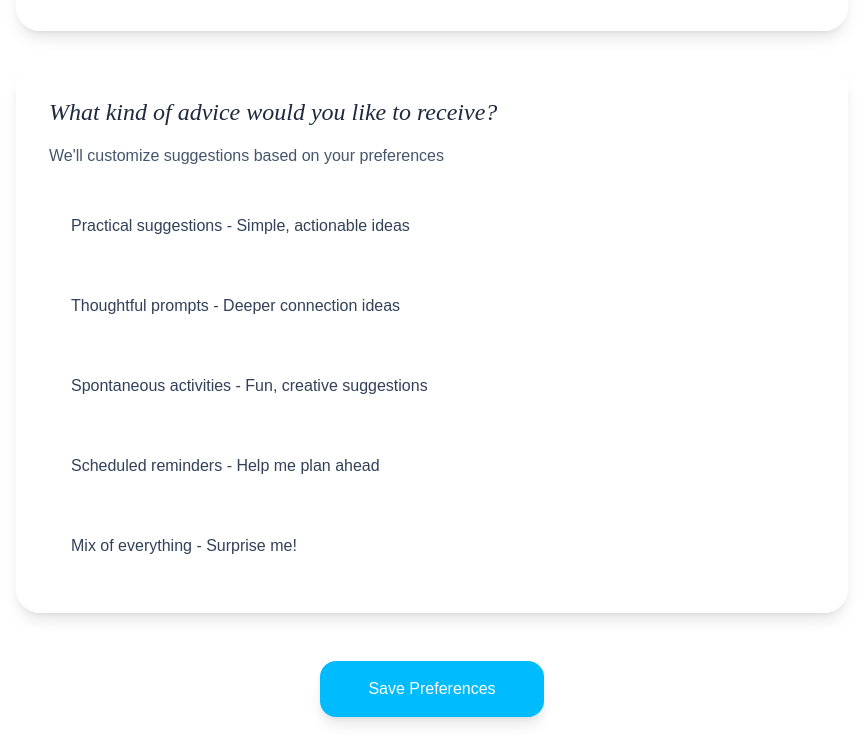
Test case: SettingsPage › should display error message on save failure
(page scrolled)
Click the button "Save Preferences". click: (432, 689)
box: top-left (320, 661), bottom-right (544, 717)
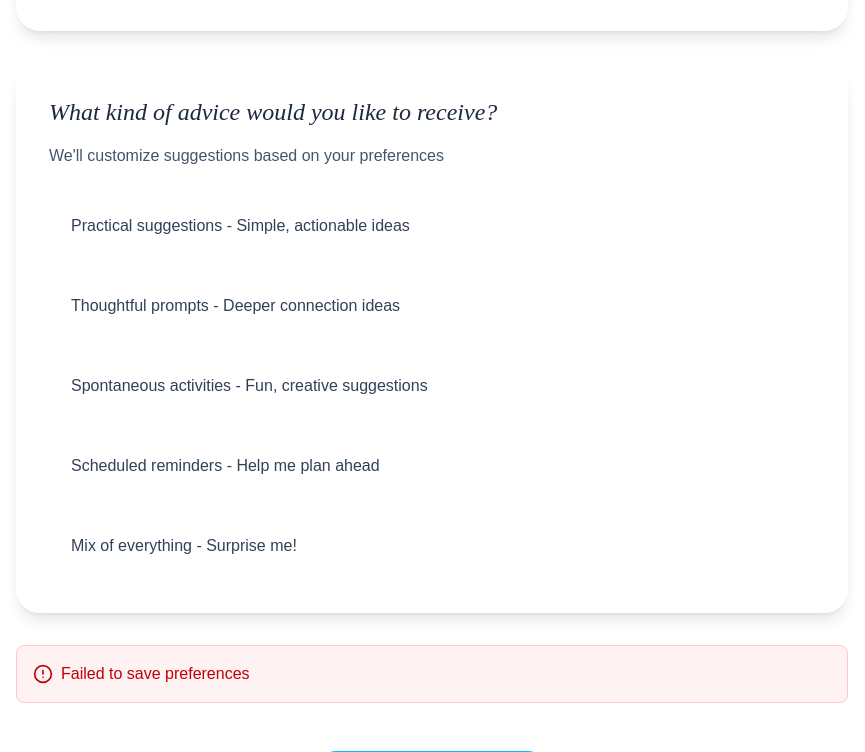
Result: the text "Failed to save preferences" is shown at top-left (61, 662), bottom-right (250, 686)
